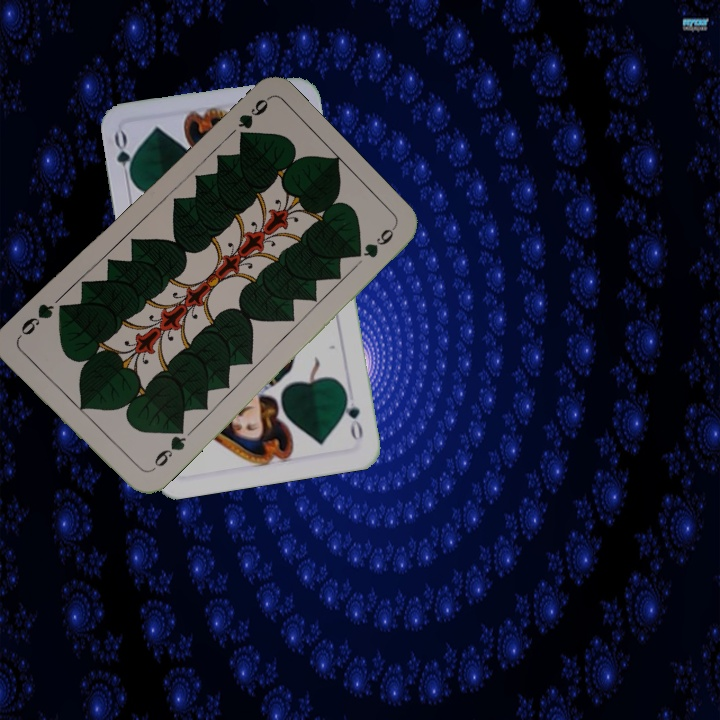G9: (145, 425, 189, 475), (234, 94, 271, 144)
GO: (110, 128, 138, 187), (339, 386, 366, 444)
